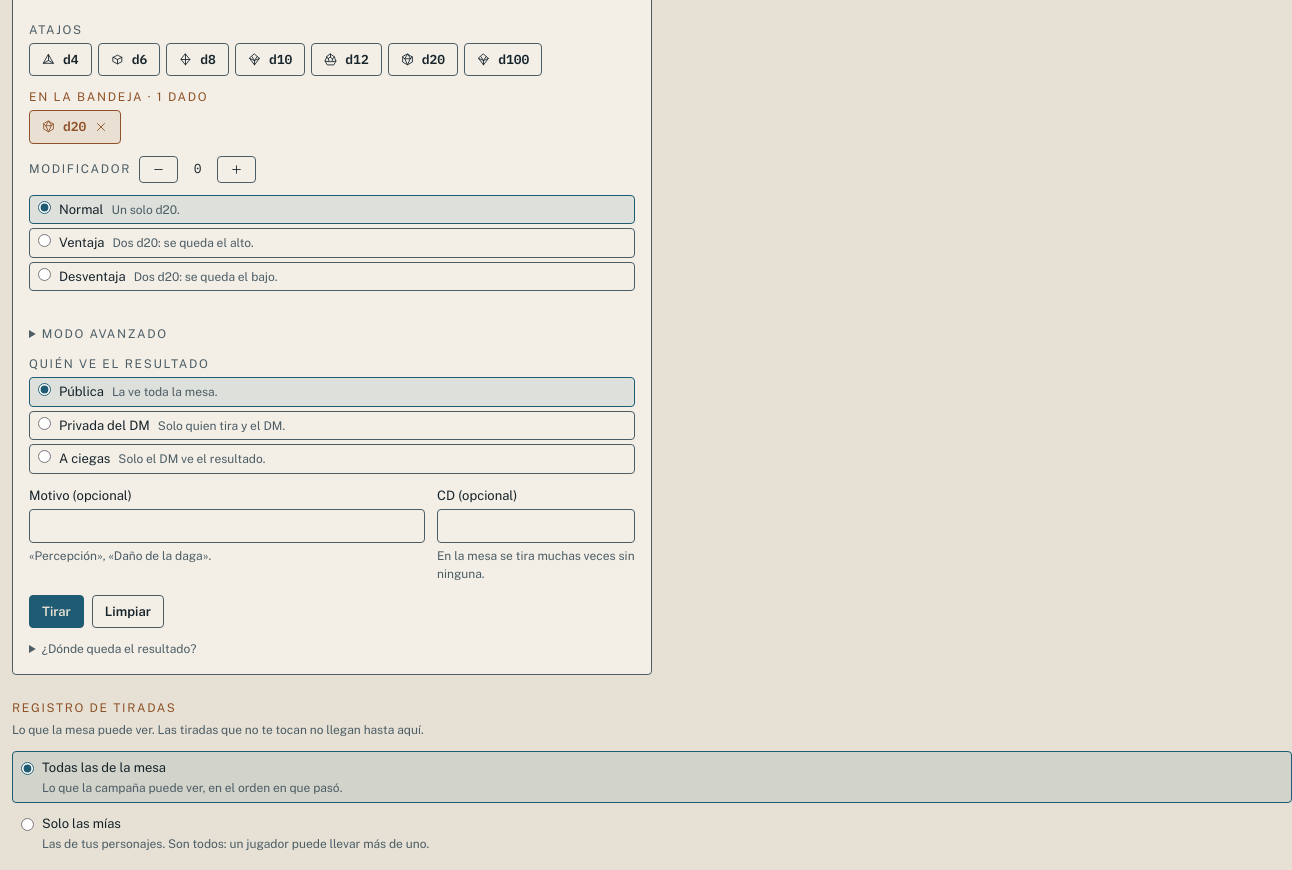
Scenario: PanelDeDados — tirar › una respuesta a ciegas pinta el aviso y NO deja escapar ningún total
The width and height of the screenshot is (1292, 870).
(page scrolled)
Click the button "Tirar".
click(56, 611)  # box [29,595,84,628]
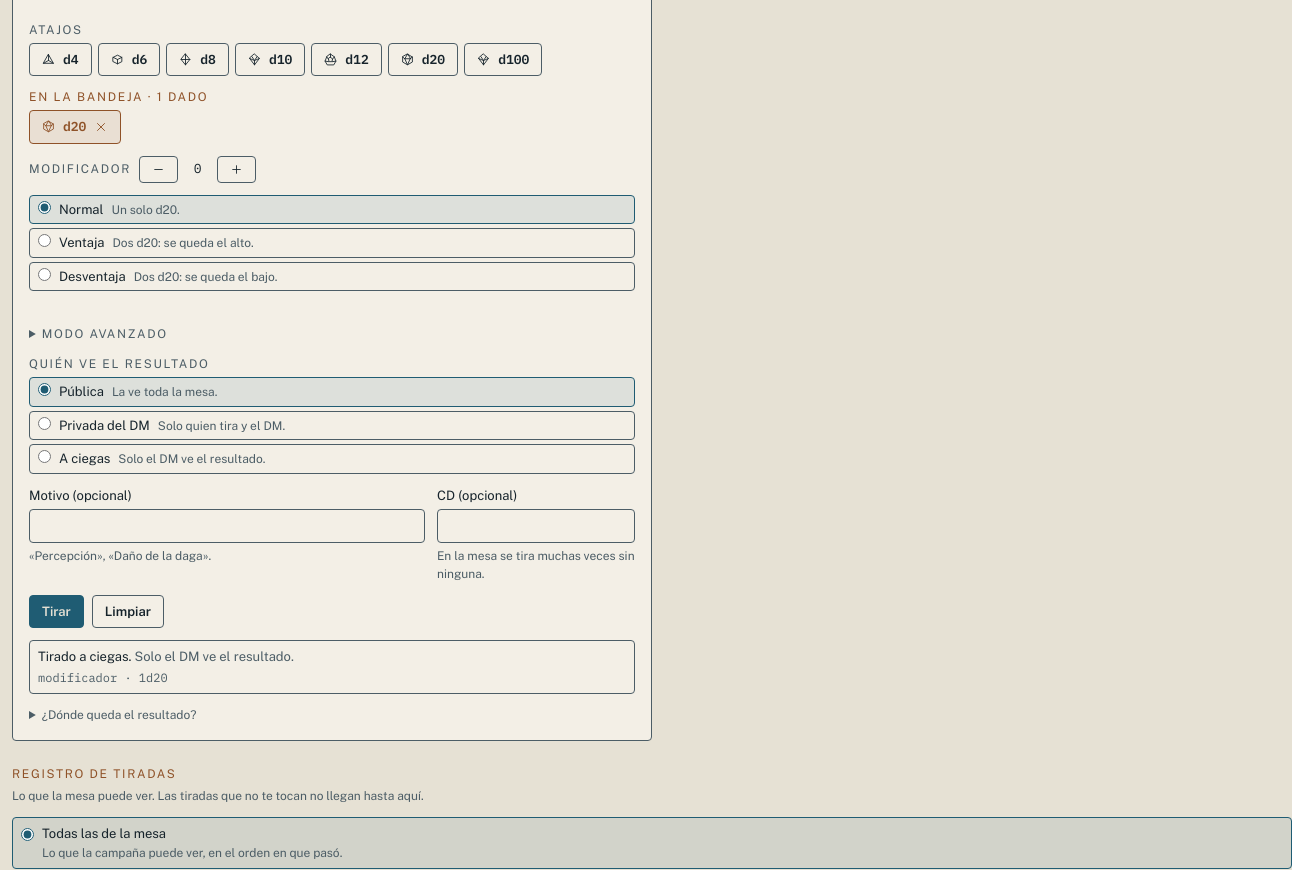
Now the text "Tirado a ciegas. Solo el DM ve el resultado." is shown, box [38,649,294,664]
Now the message "Tirado a ciegas. Solo el DM ve el resultado. modificador · 1d20" is shown, box [29,640,635,694]
